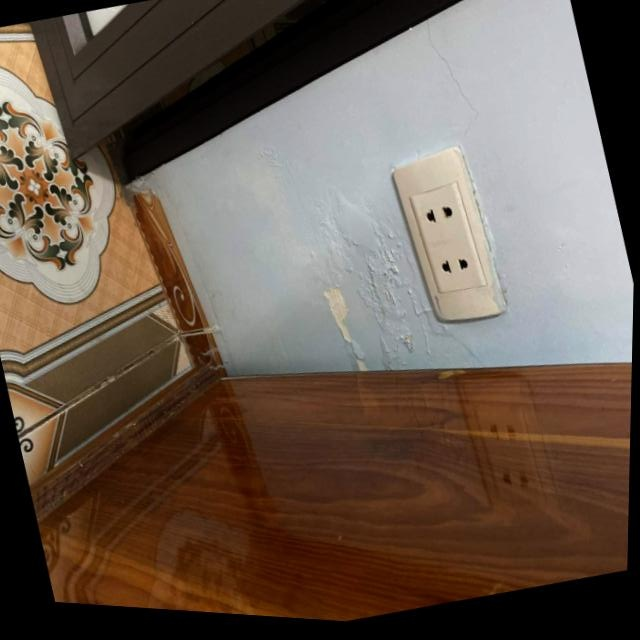outlet: (385, 136, 515, 334)
